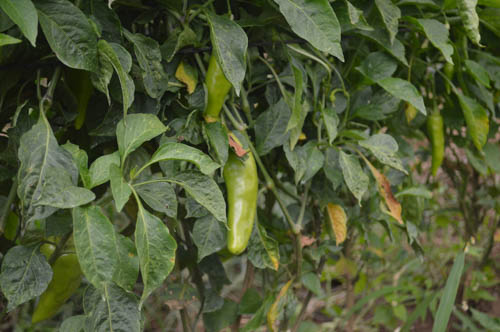ChiliPepper: (219, 152, 261, 252), (31, 254, 82, 319), (204, 49, 235, 120), (427, 115, 445, 177)
